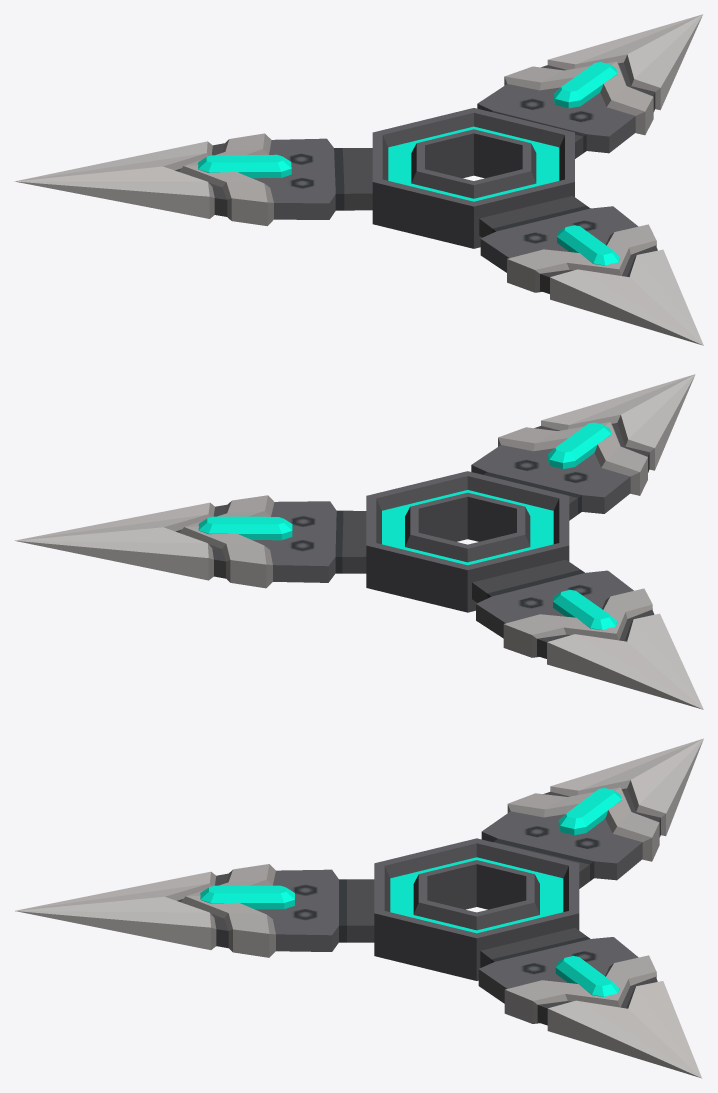
File: SM_Wep_Shuriken_03.fbx
The picture shows the model from 3 angles, top to bottom: view 1: azimuth 30°, elevation 25°; view 2: azimuth 150°, elevation 25°; view 3: azimuth 270°, elevation 25°; orthographic projection.
Parts seen in each view (by area): view 1: SM_Wep_Shuriken_03; view 2: SM_Wep_Shuriken_03; view 3: SM_Wep_Shuriken_03.
Boxes of the visible parts, x1,y1,x2,y2 form: SM_Wep_Shuriken_03: [14, 14, 703, 345]; SM_Wep_Shuriken_03: [15, 374, 703, 709]; SM_Wep_Shuriken_03: [15, 738, 703, 1078].
Size of the model in its own units: 26.34 by 1.55 by 22.59.
